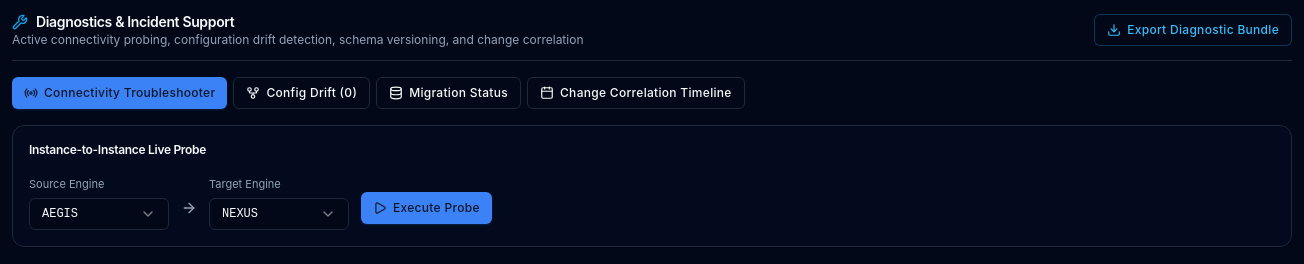
Test: Diagnostics UI Components › switches to Config Drift tab and displays findings
This screenshot has width=1304, height=264.
Click the button "Config Drift (0)" at (302, 93), box [233,77,370,109]
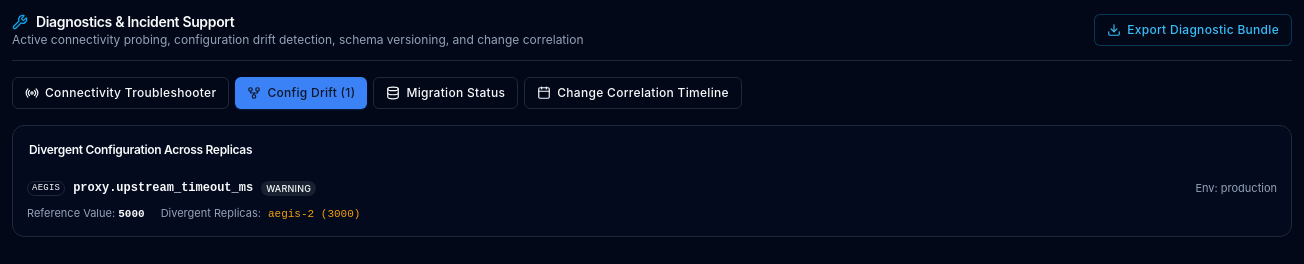
expect the heading "Divergent Configuration Across Replicas" is shown: met, box [29,142,252,157]
expect the text "proxy.upstream_timeout_ms" is shown: met, box [73,180,253,196]
